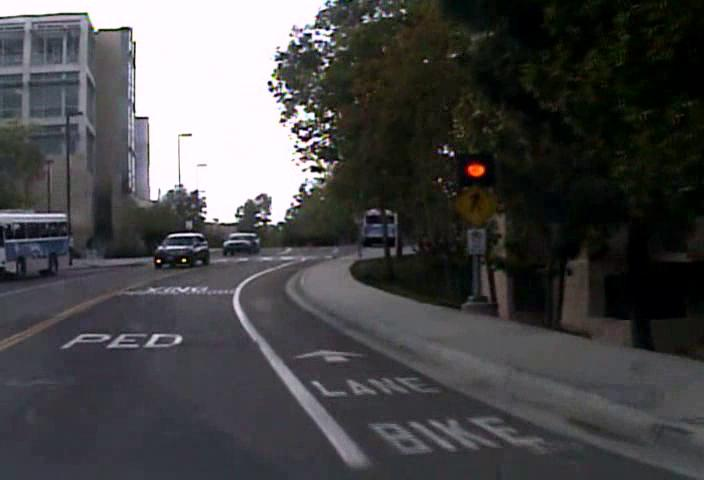pedestrianCrossing: (454, 182, 497, 226)
